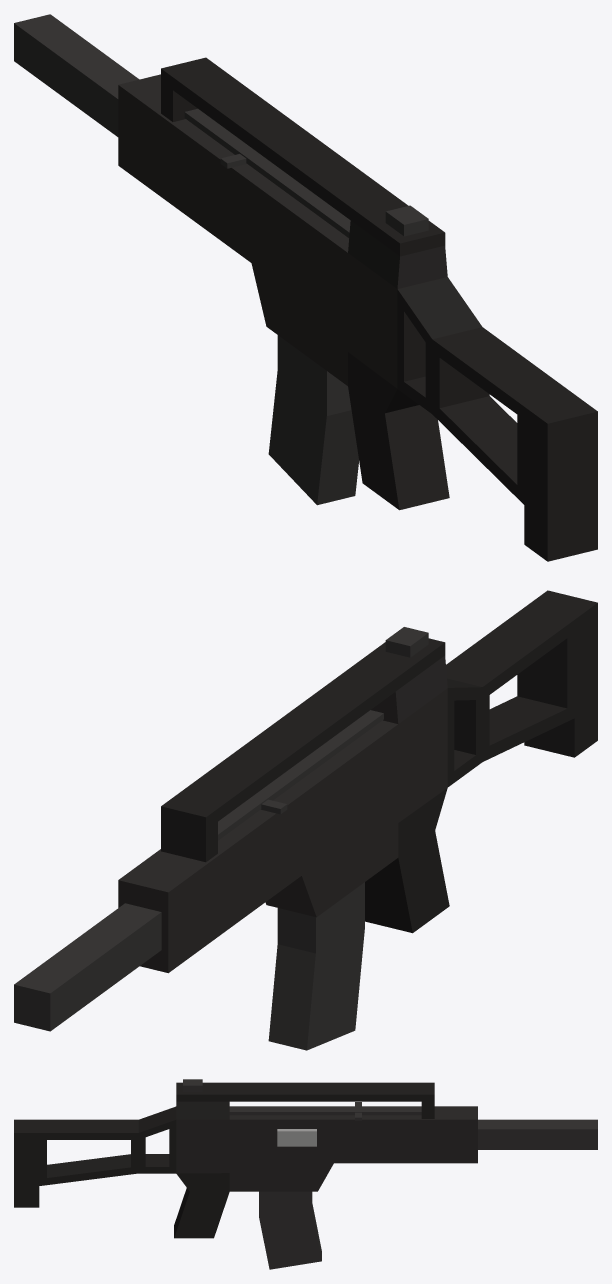
Rendered from AutoRifle36c.FBX.
The picture shows the model from 3 angles, top to bottom: view 1: azimuth 30°, elevation 25°; view 2: azimuth 150°, elevation 25°; view 3: azimuth 270°, elevation 25°; orthographic projection. The views are drawn at different scales.
Parts seen in each view (by area): view 1: AutoRifle36c, AutoRifle36cMag; view 2: AutoRifle36c, AutoRifle36cMag; view 3: AutoRifle36c, AutoRifle36cMag.
Boxes of the visible parts, x1,y1,x2,y2 form: AutoRifle36c: [14, 14, 597, 561]; AutoRifle36cMag: [268, 335, 358, 505]; AutoRifle36c: [14, 590, 597, 1031]; AutoRifle36cMag: [268, 882, 364, 1050]; AutoRifle36c: [14, 1079, 597, 1238]; AutoRifle36cMag: [259, 1191, 321, 1269].
Bounding box in the file's own units: 12.44 × 182 × 62.62.
